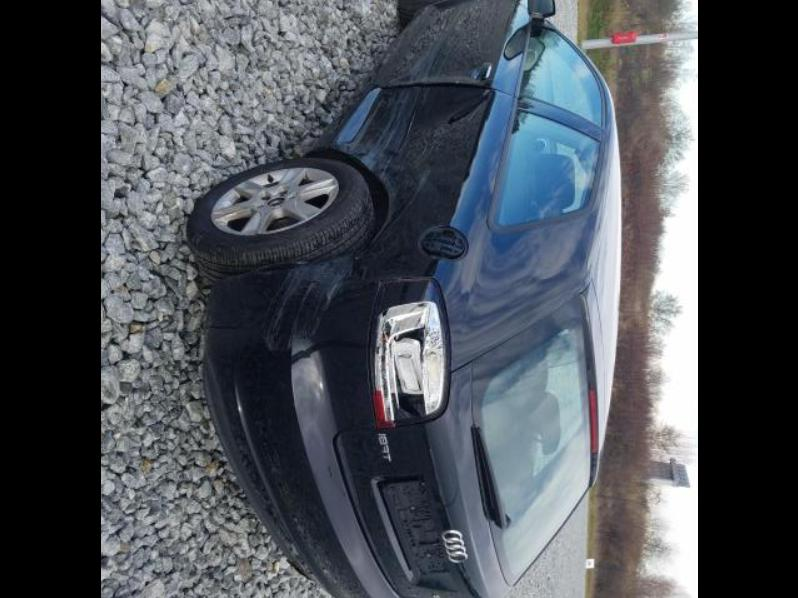Broken part: (372, 302, 443, 424), (377, 79, 493, 93)
Dent: (387, 83, 495, 200)
Missing part: (383, 483, 446, 575), (420, 229, 464, 259)
Scratch: (345, 5, 465, 174), (260, 259, 355, 352), (388, 75, 478, 84)
